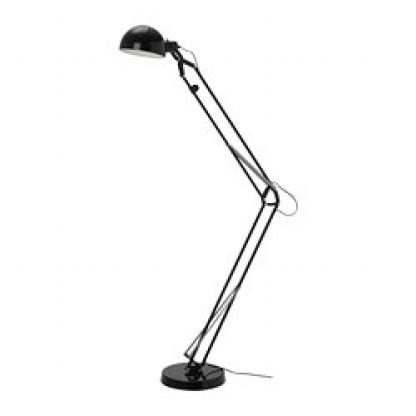Lamp: (107, 20, 281, 404)
